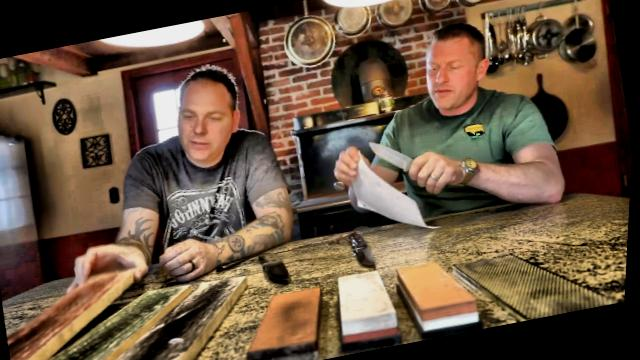knife: (361, 121, 458, 202)
